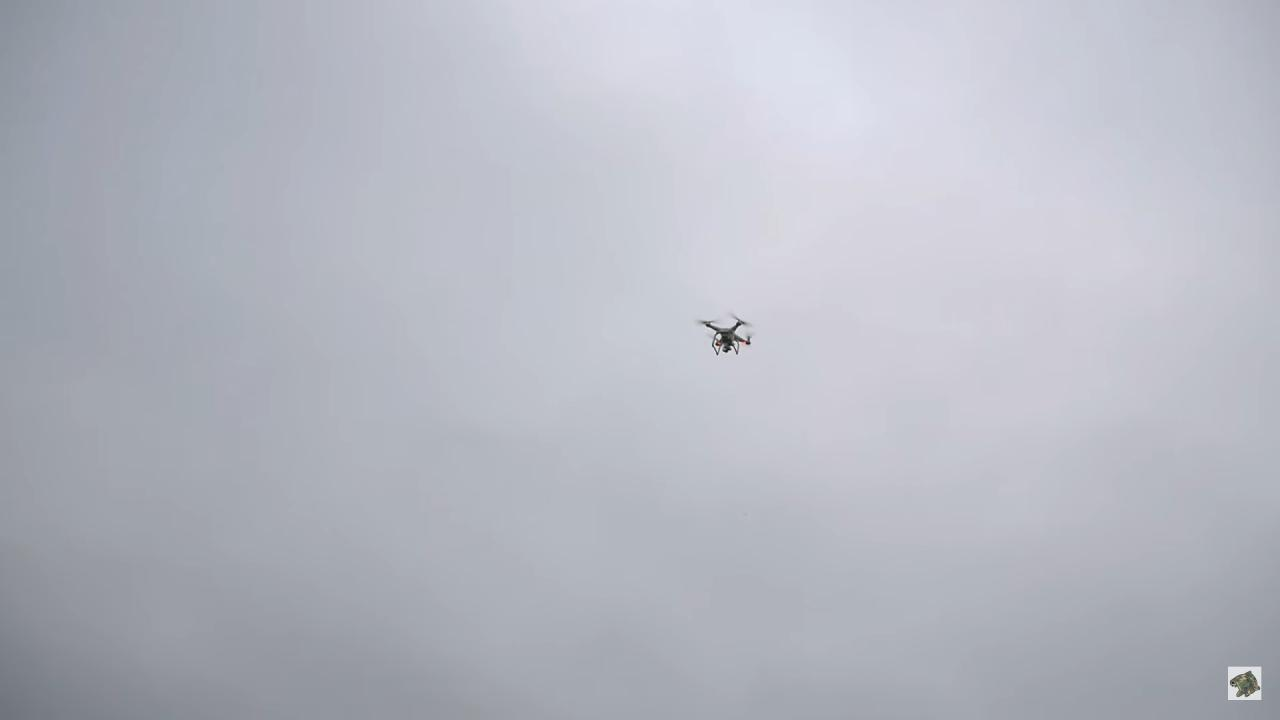Drone: (690, 304, 764, 368)
